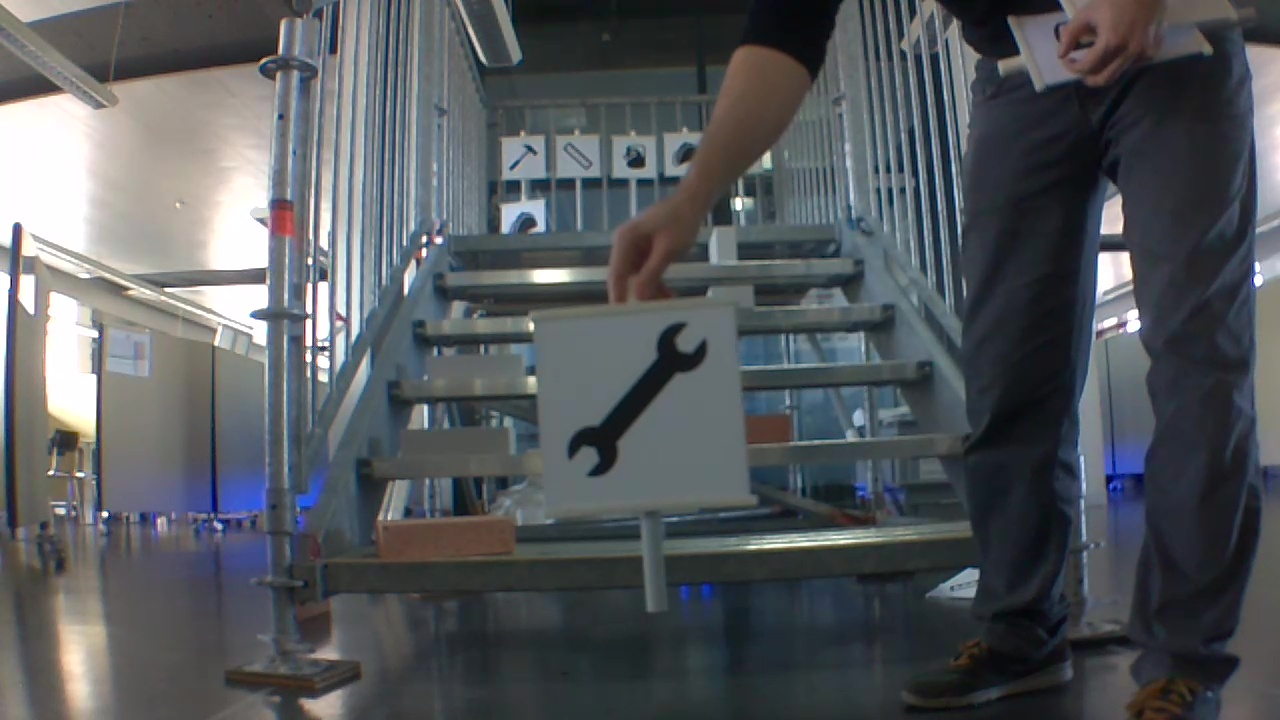brick: (371, 516, 519, 560), (400, 427, 520, 458), (425, 350, 523, 382), (743, 414, 789, 438), (711, 225, 737, 267), (707, 287, 756, 306)
bucket: (622, 143, 649, 170)
hammer: (507, 143, 539, 171)
ruler: (563, 140, 596, 169)
taco: (508, 207, 540, 234), (674, 139, 692, 166)
wrench: (565, 321, 709, 480)
